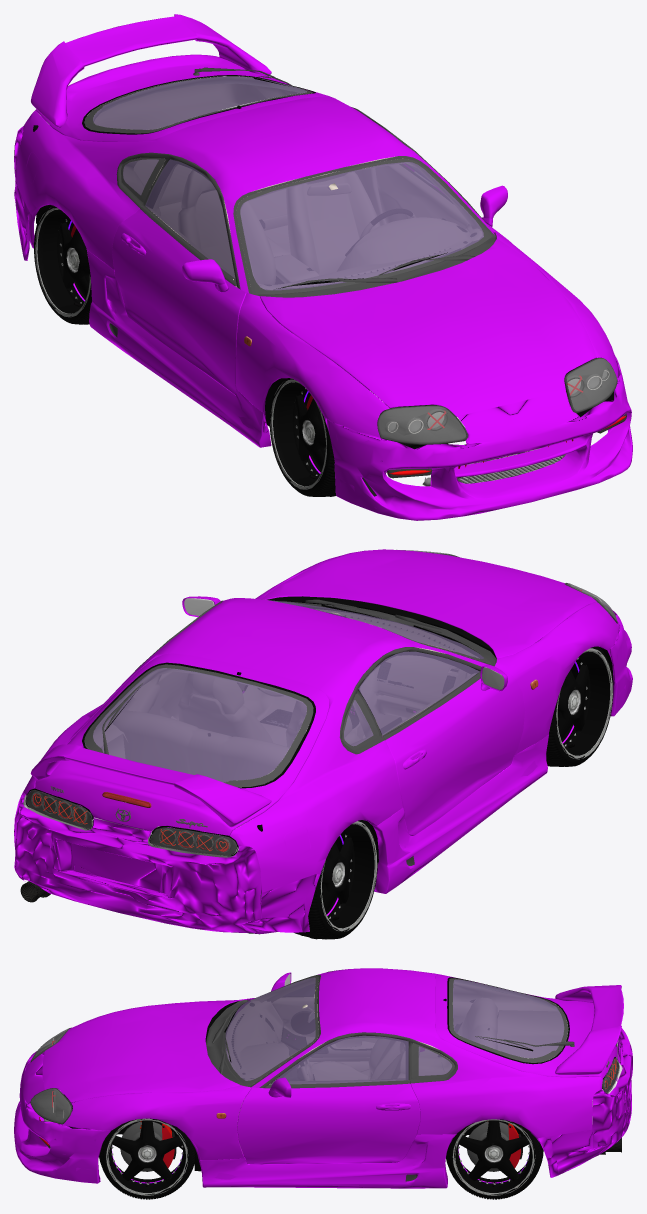
The model's file is gt_supra_hi.glb.
The picture shows the model from 3 angles, top to bottom: view 1: azimuth 30°, elevation 25°; view 2: azimuth 150°, elevation 25°; view 3: azimuth 270°, elevation 25°; orthographic projection. The views are drawn at different scales.
Parts seen in each view (by area): view 1: esta80_hood_esta80_0, esta80_body_esta80_0, esta80_bumper_F_varis_esta80_0, esta80_windshield_esta80_glass_0, esta80_door_R_esta80_0, esta80_interior_LHD_sdd_leather_0, esta80_fender_R_esta80_0, esta80_sideskirt_varis_esta80_0, esta80_wing_varis_esta80_0, esta80_tailgate_esta80_0, esta80_tailgate_esta80_glass_0, esta80_seat_FL_sdd_leather_0 (+21 smaller); view 2: esta80_body_esta80_0, esta80_bumper_R_vs_esta80_0, esta80_hood_esta80_0, esta80_tailgate_esta80_glass_0, esta80_interior_LHD_sdd_leather_0, esta80_door_R_esta80_0, esta80_tailgate_esta80_0, esta80_sideskirt_varis_esta80_0, esta80_fender_R_esta80_0, esta80_doorglass_R_esta80_glass_0, esta80_wing_varis_esta80_0, esta80_wheel_chargespeed_esta80_chargespeed_wheel_0 (+19 smaller); view 3: esta80_body_esta80_0, esta80_hood_esta80_0, esta80_door_L_esta80_0, esta80_sideskirt_varis_esta80_0, esta80_interior_LHD_sdd_leather_0, esta80_fender_L_esta80_0, esta80_tailgate_esta80_glass_0, esta80_windshield_esta80_glass_0, esta80_bumper_F_varis_esta80_0, esta80_doorglass_L_esta80_glass_0, esta80_bumper_R_vs_esta80_0, esta80_wheel_chargespeed_esta80_chargespeed_wheel_0 (+25 smaller).
Part boxes in pixels (x1,y1,x2,y2): esta80_hood_esta80_0: [260, 238, 596, 416]; esta80_body_esta80_0: [16, 76, 494, 292]; esta80_bumper_F_varis_esta80_0: [323, 356, 632, 520]; esta80_windshield_esta80_glass_0: [240, 162, 483, 290]; esta80_door_R_esta80_0: [112, 209, 246, 394]; esta80_interior_LHD_sdd_leather_0: [123, 85, 482, 298]; esta80_fender_R_esta80_0: [235, 292, 389, 437]; esta80_sideskirt_varis_esta80_0: [86, 249, 271, 447]; esta80_wing_varis_esta80_0: [31, 14, 271, 127]; esta80_tailgate_esta80_0: [35, 54, 328, 141]; esta80_tailgate_esta80_glass_0: [93, 76, 306, 129]; esta80_seat_FL_sdd_leather_0: [286, 172, 379, 274]; esta80_body_esta80_0: [23, 598, 487, 933]; esta80_bumper_R_vs_esta80_0: [14, 792, 320, 932]; esta80_hood_esta80_0: [262, 549, 596, 658]; esta80_tailgate_esta80_glass_0: [93, 668, 306, 782]; esta80_interior_LHD_sdd_leather_0: [93, 610, 477, 781]; esta80_door_R_esta80_0: [382, 666, 525, 835]; esta80_tailgate_esta80_0: [35, 653, 329, 835]; esta80_sideskirt_varis_esta80_0: [373, 734, 548, 893]; esta80_fender_R_esta80_0: [495, 602, 617, 754]; esta80_doorglass_R_esta80_glass_0: [358, 651, 479, 735]; esta80_wing_varis_esta80_0: [30, 744, 271, 827]; esta80_wheel_chargespeed_esta80_chargespeed_wheel_0: [556, 648, 612, 759]; esta80_body_esta80_0: [251, 968, 602, 1139]; esta80_hood_esta80_0: [42, 1000, 239, 1102]; esta80_door_L_esta80_0: [237, 1083, 420, 1163]; esta80_sideskirt_varis_esta80_0: [199, 1048, 456, 1188]; esta80_interior_LHD_sdd_leather_0: [226, 978, 555, 1099]; esta80_fender_L_esta80_0: [64, 1085, 251, 1165]; esta80_tailgate_esta80_glass_0: [453, 979, 564, 1058]; esta80_windshield_esta80_glass_0: [225, 977, 315, 1080]; esta80_bumper_F_varis_esta80_0: [14, 1051, 111, 1183]; esta80_doorglass_L_esta80_glass_0: [270, 1035, 408, 1084]; esta80_bumper_R_vs_esta80_0: [537, 1028, 632, 1177]; esta80_wheel_chargespeed_esta80_chargespeed_wheel_0: [106, 1118, 188, 1195].
Size of what is drawn, in the model's own units: 2.02 by 1.28 by 4.55.
Materials: 46 (8 with a texture image).
